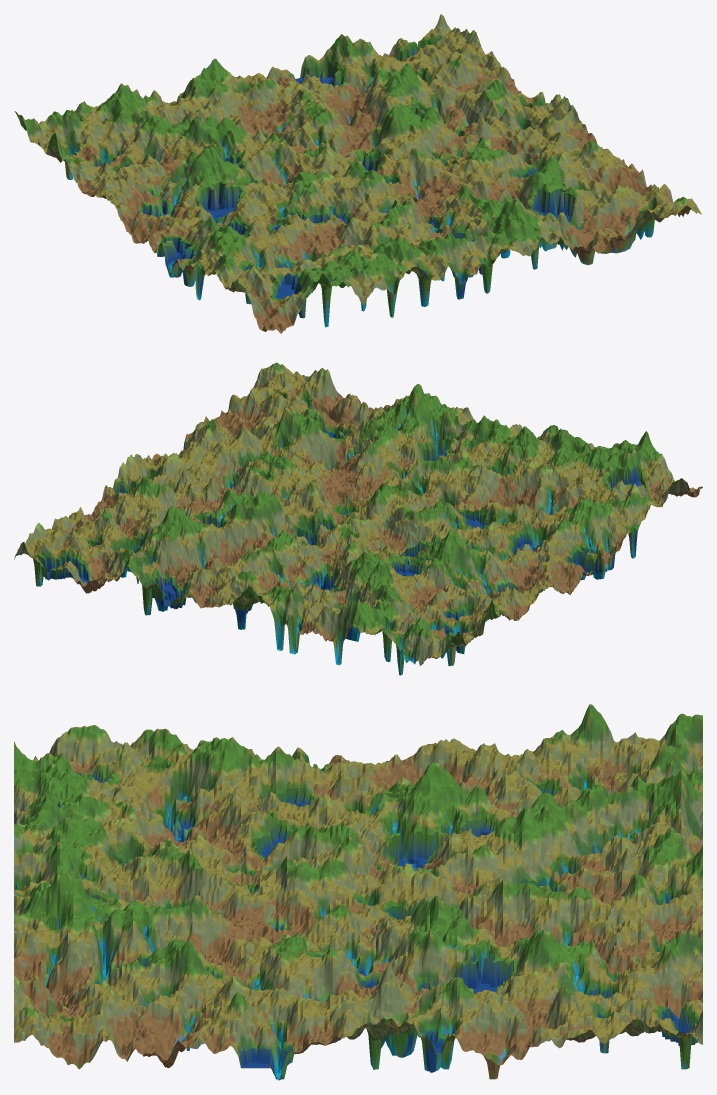
The model's file is landscape_ARCHIPELAGO_v2.obj.
3 renders of one model, top to bottom at view 1: azimuth 30°, elevation 25°; view 2: azimuth 150°, elevation 25°; view 3: azimuth 270°, elevation 25°, orthographic. The views are drawn at different scales.
Visible parts, largest first — view 1: terrain_ARCHIPELAGO; view 2: terrain_ARCHIPELAGO; view 3: terrain_ARCHIPELAGO.
Boxes of the visible parts, left/top/right/bottom form: terrain_ARCHIPELAGO: left=14, top=14, right=702, bottom=333; terrain_ARCHIPELAGO: left=14, top=362, right=702, bottom=675; terrain_ARCHIPELAGO: left=14, top=704, right=702, bottom=1080.
Size of the model in its own units: 255 by 39.95 by 255.
Materials: 1 (1 with a texture image).
